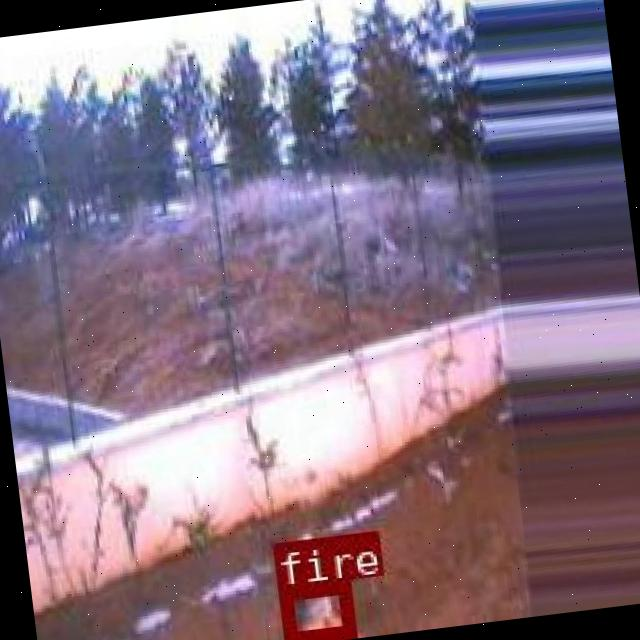fire: (275, 579, 351, 640)
